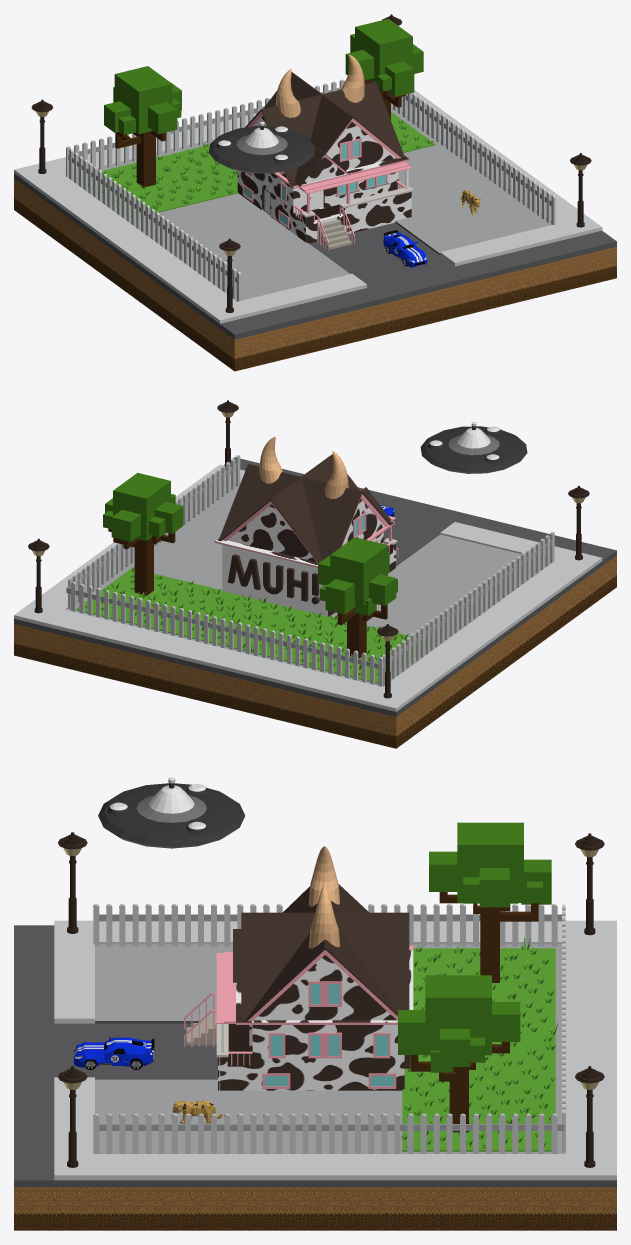
The picture shows the model from 3 angles, top to bottom: view 1: azimuth 30°, elevation 25°; view 2: azimuth 150°, elevation 25°; view 3: azimuth 270°, elevation 25°; orthographic projection. The views are drawn at different scales.
Parts seen in each view (by area): view 1: Cube.004, Cube.1242, OBJRANDOM_UFO, VEHICLES_RACING_CAR; view 2: Cube.004, Cube.1242, OBJRANDOM_UFO; view 3: Cube.004, Cube.1242, OBJRANDOM_UFO, VEHICLES_RACING_CAR, ANIMAL_JAGUAR.
Part boxes in pixels (x1,y1,x2,y2): Cube.004: (14, 14, 616, 371); Cube.1242: (237, 54, 414, 250); OBJRANDOM_UFO: (208, 121, 315, 173); VEHICLES_RACING_CAR: (383, 230, 427, 267); Cube.004: (14, 400, 616, 748); Cube.1242: (214, 436, 398, 616); OBJRANDOM_UFO: (420, 422, 527, 473); Cube.004: (14, 822, 616, 1230); Cube.1242: (184, 846, 413, 1090); OBJRANDOM_UFO: (98, 777, 245, 848); VEHICLES_RACING_CAR: (73, 1037, 154, 1069); ANIMAL_JAGUAR: (172, 1100, 222, 1123).
Size of the model in its own units: 4000 by 1942 by 4000.
39 materials, 3 textured.
